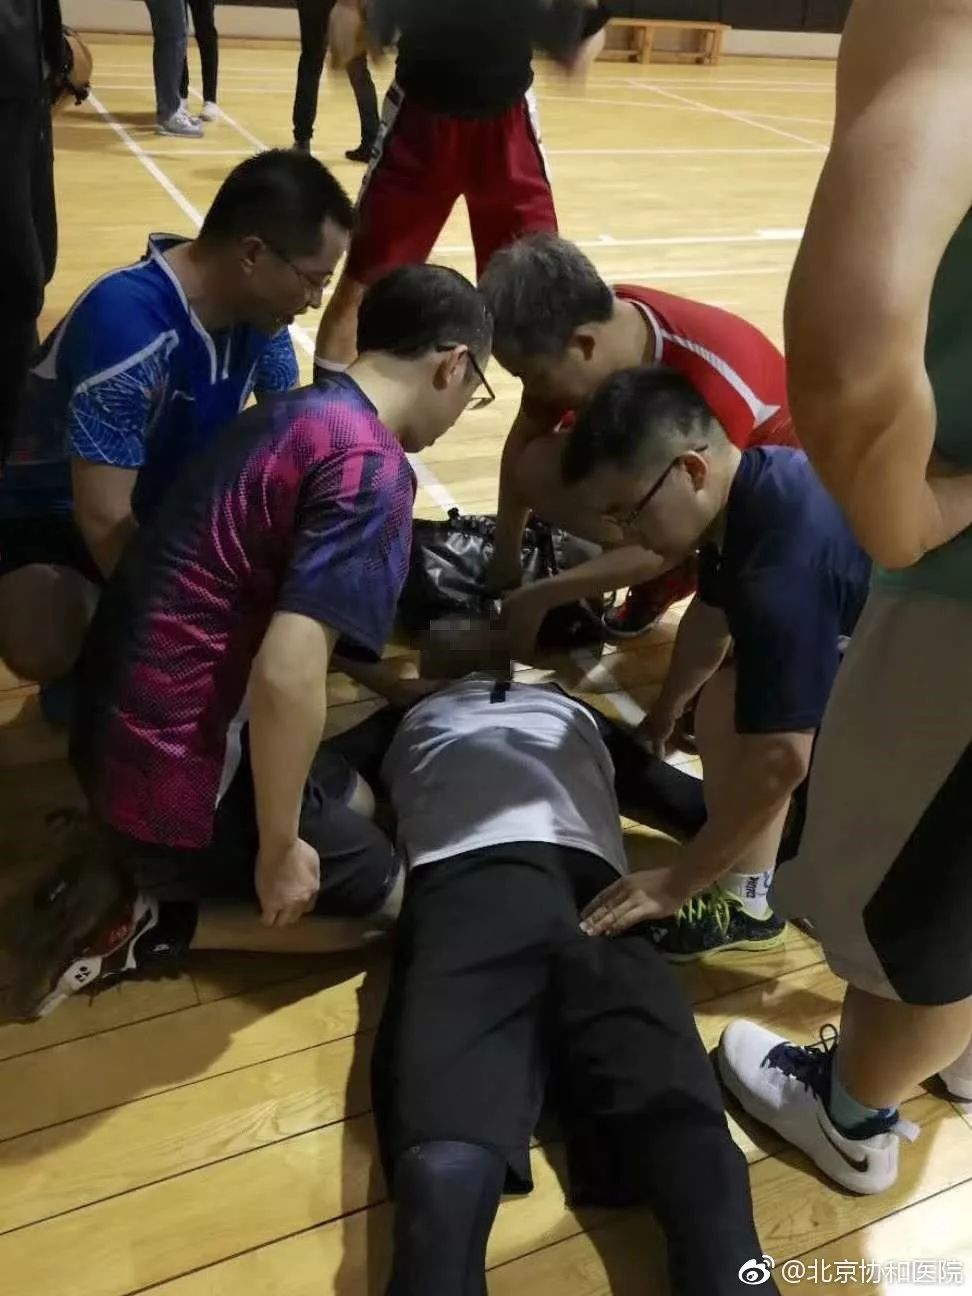10+: (1, 1, 963, 1293)
down: (233, 574, 883, 1296)
